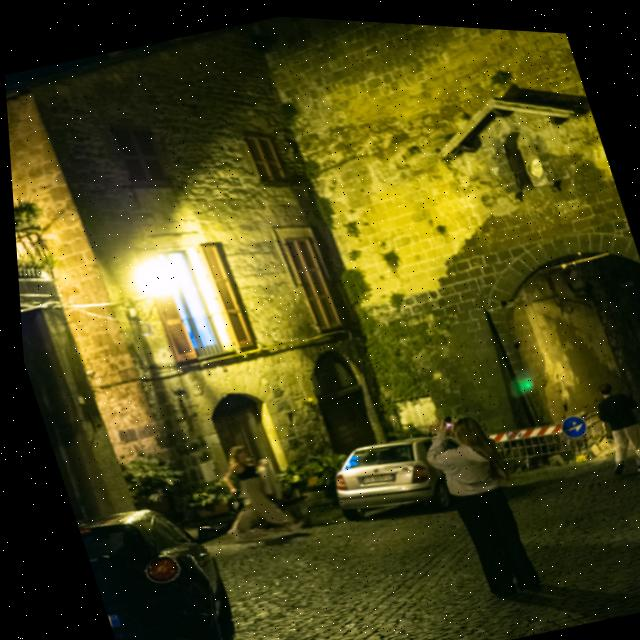building: (0, 0, 640, 596)
